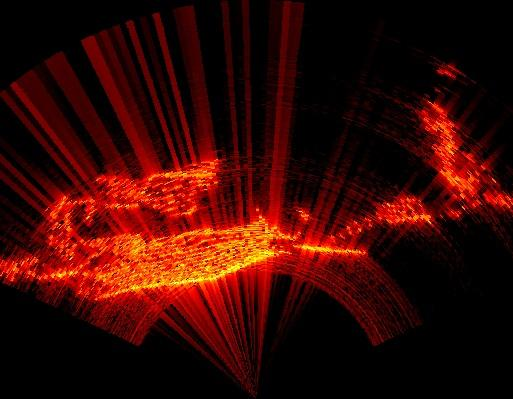shipwreck: (3, 105, 507, 299)
